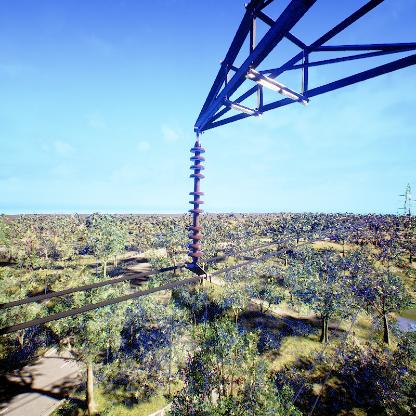insulator: (185, 145, 208, 264)
